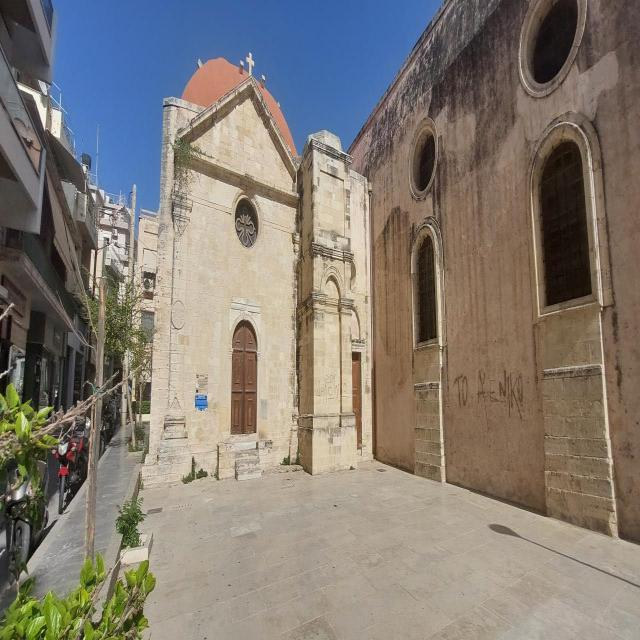Agia Aikaterini: (150, 1, 640, 550)
